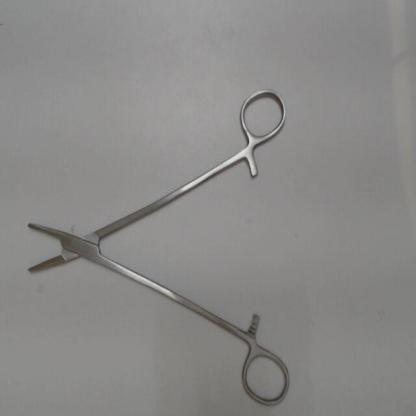8 Mayo Needle Holder: (17, 80, 298, 412)
